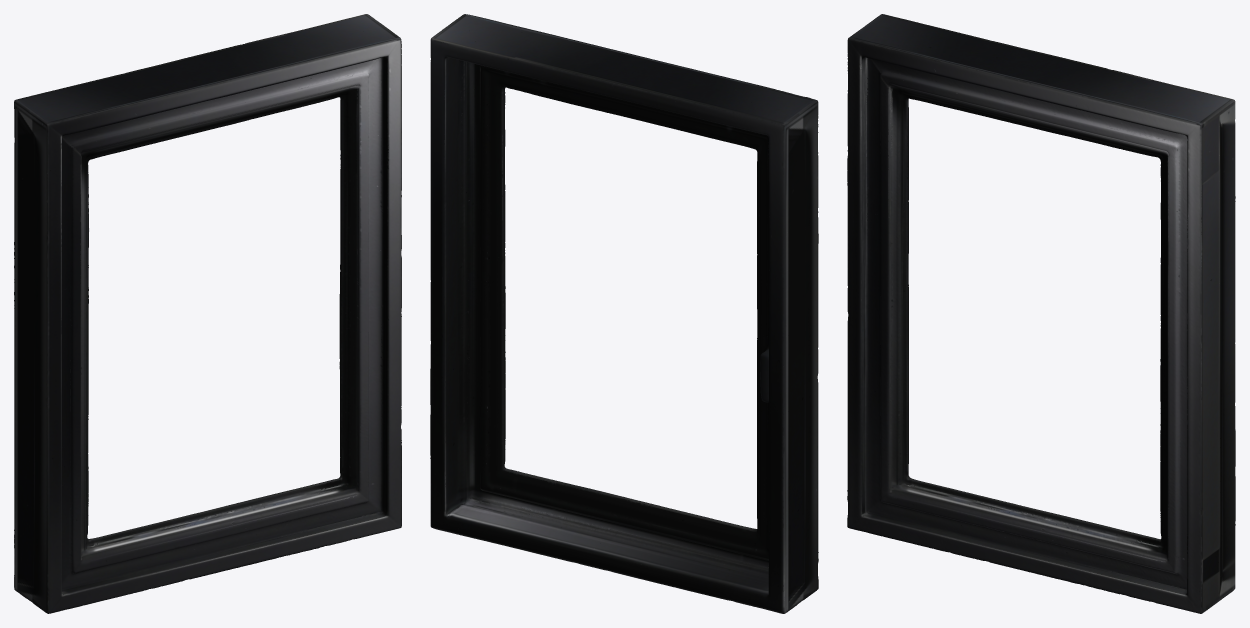
The model's file is Meshy_AI__Finestra_singola_fi_0211231832_texture.glb.
3 renders of one model, left to right at view 1: azimuth 30°, elevation 25°; view 2: azimuth 150°, elevation 25°; view 3: azimuth 330°, elevation 25°, orthographic.
Bounding box in the file's own units: 1.52 × 2 × 0.2633.
Materials: 1 (1 with a texture image).
